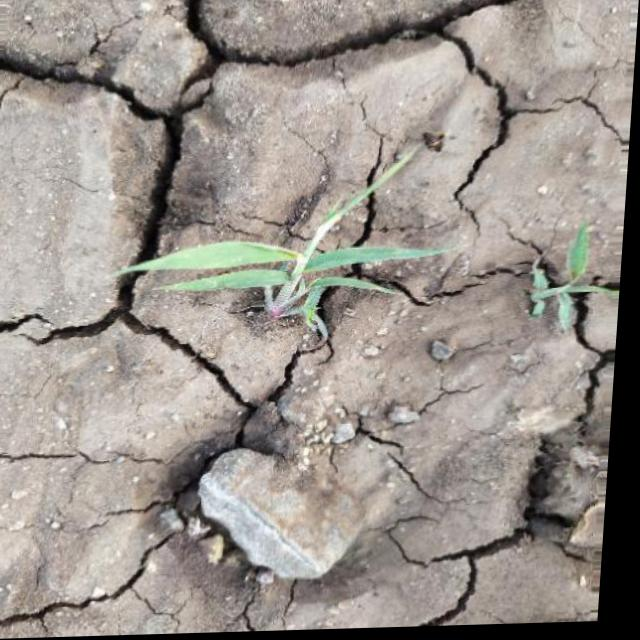weed: (106, 109, 481, 387)
